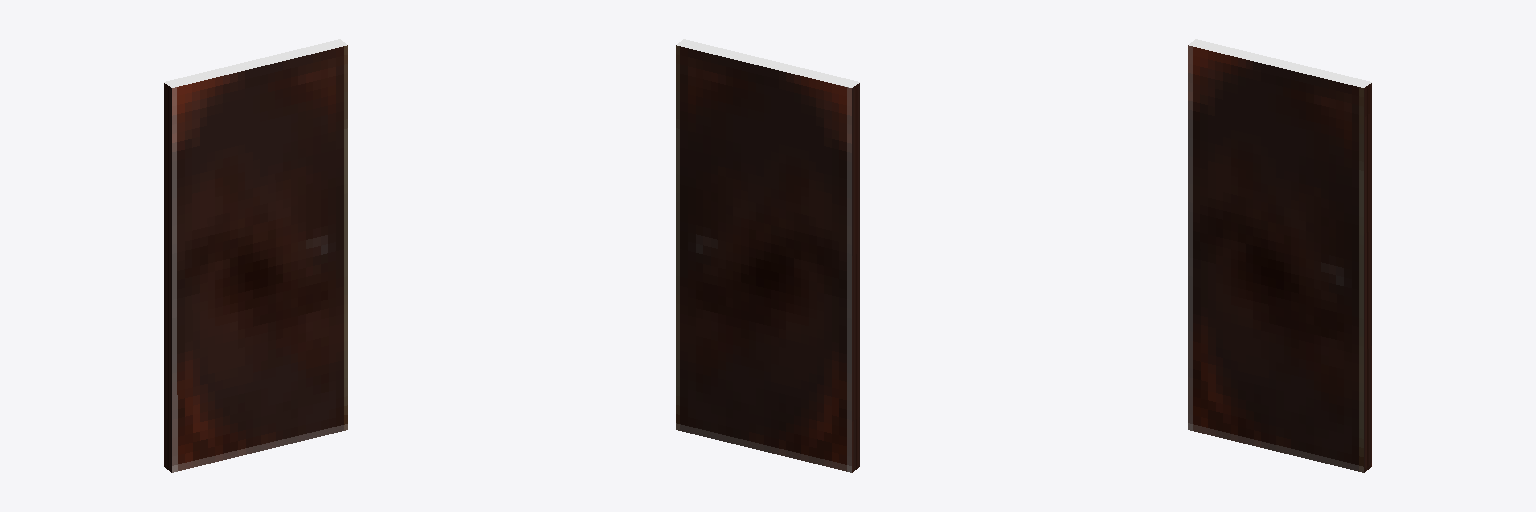
3 renders of one model, left to right at view 1: azimuth 30°, elevation 25°; view 2: azimuth 150°, elevation 25°; view 3: azimuth 330°, elevation 25°, orthographic.
Parts seen in each view (by area): view 1: Cube.001; view 2: Cube.001; view 3: Cube.001.
Part boxes in pixels (left/top/right/bottom): Cube.001: left=164, top=39, right=347, bottom=472; Cube.001: left=676, top=39, right=859, bottom=472; Cube.001: left=1188, top=39, right=1371, bottom=472.
Bounding box in the file's own units: 2.4 × 5 × 0.1984.
Materials: 1 (1 with a texture image).